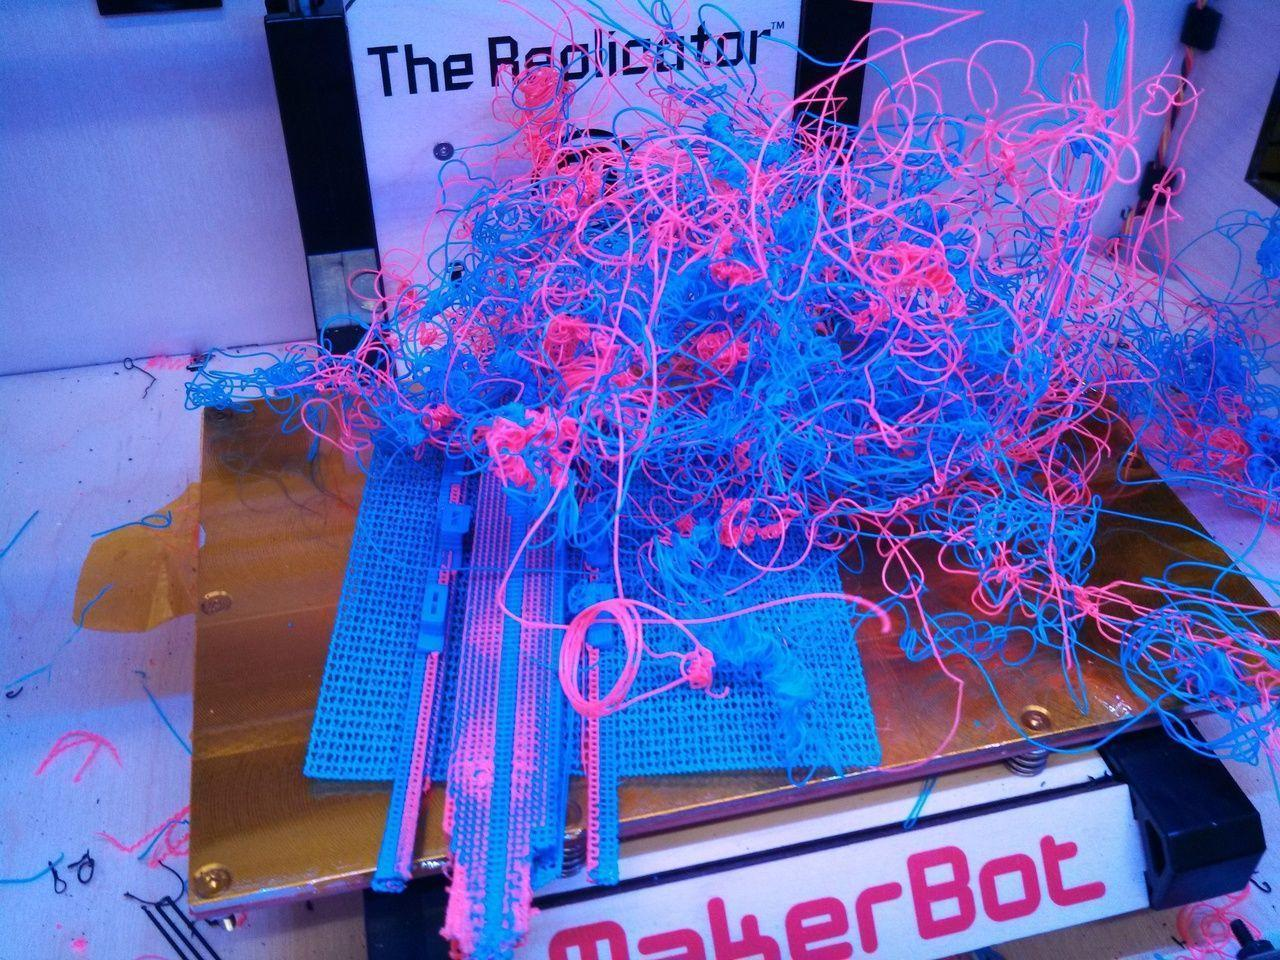Spaghetti: (407, 89, 1279, 550), (623, 551, 1276, 790), (171, 322, 458, 462)
